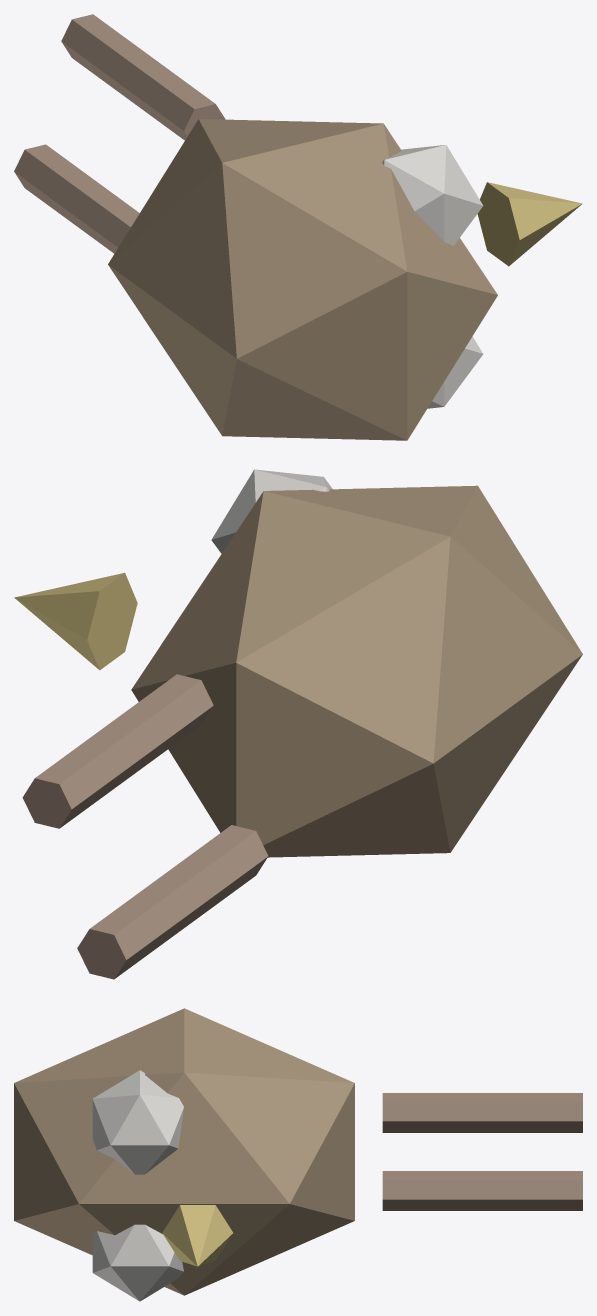
The model's file is owl.glb.
The picture shows the model from 3 angles, top to bottom: view 1: azimuth 30°, elevation 25°; view 2: azimuth 150°, elevation 25°; view 3: azimuth 270°, elevation 25°; orthographic projection. The views are drawn at different scales.
Visible parts, largest first — view 1: world; view 2: world; view 3: world.
Part boxes in pixels (left/top/right/bottom): world: left=14, top=14, right=582, bottom=440; world: left=14, top=469, right=582, bottom=979; world: left=14, top=1008, right=582, bottom=1301.
Bounding box in the file's own units: 0.8865 × 0.5529 × 1.28.
